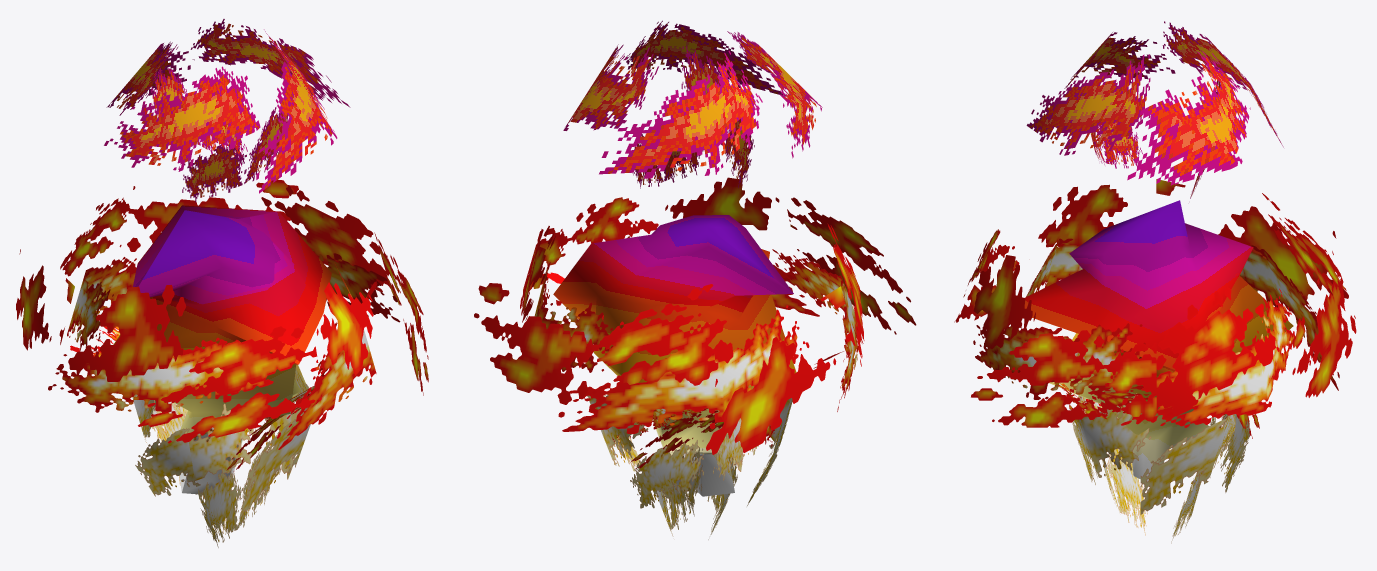
Rendered from blz_ball.obj.
The picture shows the model from 3 angles, left to right: view 1: azimuth 30°, elevation 25°; view 2: azimuth 150°, elevation 25°; view 3: azimuth 270°, elevation 25°; orthographic projection.
Parts seen in each view (by area): view 1: polygon1, polygon0, polygon4, polygon2, polygon3; view 2: polygon1, polygon0, polygon4, polygon2, polygon3; view 3: polygon1, polygon0, polygon4, polygon2, polygon3.
Part boxes in pixels (x1,y1,x2,y2): polygon1: (16, 179, 428, 471); polygon0: (113, 205, 331, 494); polygon4: (104, 19, 350, 202); polygon2: (48, 249, 400, 449); polygon3: (132, 369, 310, 547); polygon1: (474, 177, 916, 469); polygon0: (553, 215, 796, 496); polygon4: (563, 20, 822, 188); polygon2: (534, 236, 863, 446); polygon3: (587, 395, 792, 539); polygon1: (954, 179, 1356, 438); polygon0: (1024, 200, 1293, 481); polygon4: (1026, 21, 1283, 198); polygon2: (973, 238, 1339, 427); polygon3: (1071, 393, 1250, 543).
Size of the model in its own units: 1.6 by 2.32 by 1.67.
4 materials, 4 textured.
